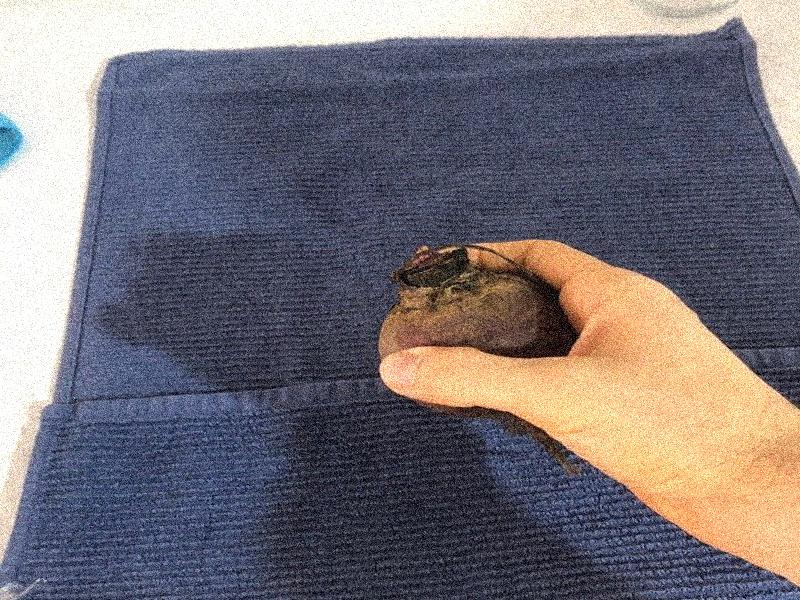Beet: (376, 246, 571, 477)
